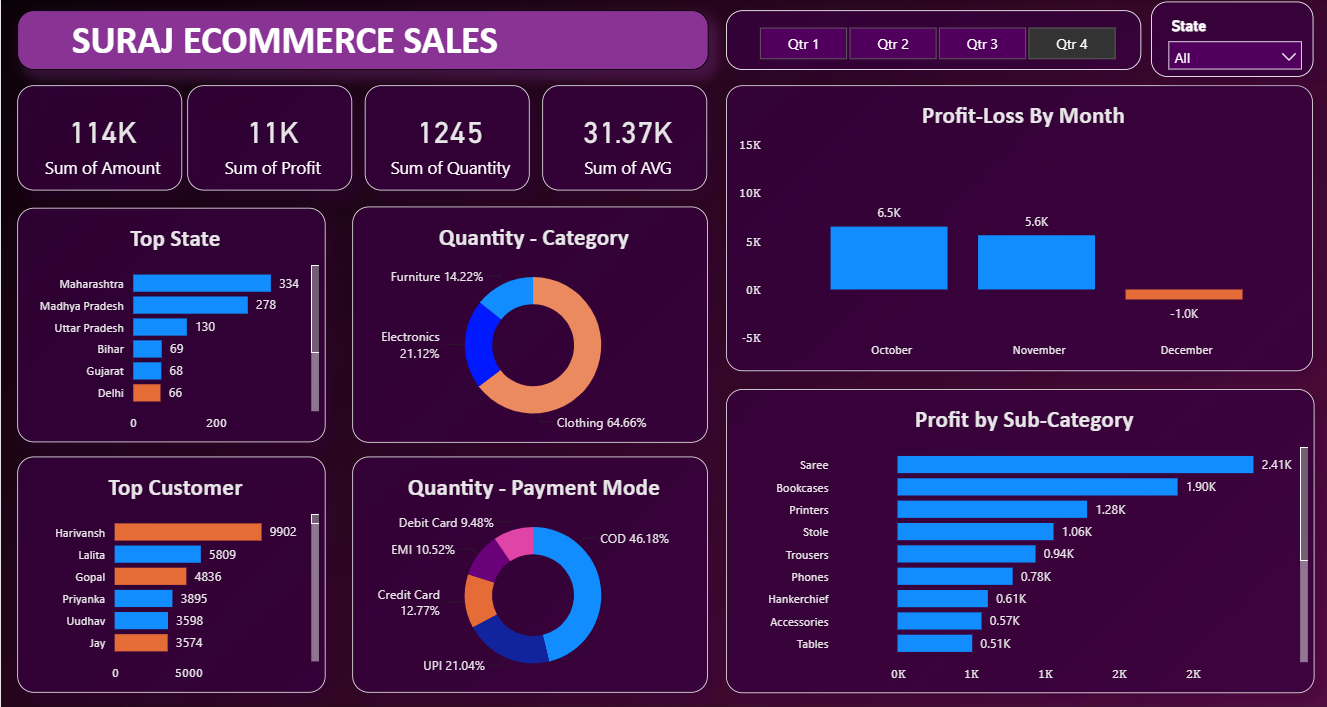

Layout of this report page (visuals, bound fields, positions):
{"tool":"powerbi","page":{"name":"Page 1","canvas":[1280,720],"ordinal":0},"visuals":[{"type":"textbox","box":[15.1,11,666.9,57.6],"z":0},{"type":"columnChart","title":"Profit-Loss By Month","fields":{"Category":["Orders.Order Date.Variation.Date Hierarchy.Month"],"Y":["Sum(Details.Profit)"]},"box":[699.8,83.7,566.7,275.8],"z":1000},{"type":"clusteredBarChart","fields":{"Category":["Details.Sub-Category"],"Y":["Sum(Details.Profit)"]},"box":[699.8,376,568.1,293.7],"z":2000},{"type":"donutChart","title":"Quantity - Category","fields":{"Category":["Details.Category"],"Y":["Sum(Details.Quantity)"]},"box":[338.9,200.3,343.1,227.8],"z":3000},{"type":"donutChart","title":"Quantity - Category","fields":{"Y":["Sum(Details.Quantity)"],"Category":["Details.PaymentMode"]},"box":[338.9,441.9,343.1,227.8],"z":4000},{"type":"clusteredBarChart","title":"Top State","fields":{"Y":["Sum(Details.Quantity)"],"Category":["Orders.State"]},"box":[15.1,201.7,297.8,226.4],"z":5000},{"type":"barChart","title":"Top Customer","fields":{"Category":["Orders.CustomerName"],"Y":["Sum(Details.Amount)"]},"box":[15.1,441.9,297.8,227.8],"z":6000},{"type":"card","fields":{"Values":["Sum(Details.Amount)"]},"box":[15.1,83.7,159.2,101.5],"z":7000},{"type":"card","fields":{"Values":["Sum(Details.Profit)"]},"box":[179.8,83.7,159.2,101.5],"z":8000},{"type":"card","fields":{"Values":["Sum(Details.Quantity)"]},"box":[351.3,83.7,159.2,101.5],"z":9000},{"type":"card","fields":{"Values":["Sum(Details.AVG)"]},"box":[522.8,83.7,159.2,101.5],"z":10000},{"type":"slicer","fields":{"Values":["Orders.Order Date.Variation.Date Hierarchy.Quarter"]},"box":[699.8,11,400.7,57.6],"z":11000},{"type":"slicer","fields":{"Values":["Orders.State"]},"box":[1110.1,2.7,156.4,72.7],"z":12000}]}

Visuals, with their boxes on the page's 1280x720 design canvas (x1, y1, x2, y2). These are canvas units, not pixel positions in the 1327x707 screenshot, which may show the page scaled, cropped or inside an application window:
textbox: <bbox>15, 11, 682, 69</bbox>
"Profit-Loss By Month" columnChart: <bbox>700, 84, 1266, 360</bbox>
clusteredBarChart - Details.Sub-Category x Sum(Details.Profit): <bbox>700, 376, 1268, 670</bbox>
"Quantity - Category" donutChart: <bbox>339, 200, 682, 428</bbox>
"Quantity - Category" donutChart: <bbox>339, 442, 682, 670</bbox>
"Top State" clusteredBarChart: <bbox>15, 202, 313, 428</bbox>
"Top Customer" barChart: <bbox>15, 442, 313, 670</bbox>
card - Sum(Details.Amount): <bbox>15, 84, 174, 185</bbox>
card - Sum(Details.Profit): <bbox>180, 84, 339, 185</bbox>
card - Sum(Details.Quantity): <bbox>351, 84, 510, 185</bbox>
card - Sum(Details.AVG): <bbox>523, 84, 682, 185</bbox>
slicer - Orders.Order Date.Variation.Date Hierarchy.Quarter: <bbox>700, 11, 1100, 69</bbox>
slicer - Orders.State: <bbox>1110, 3, 1266, 75</bbox>
